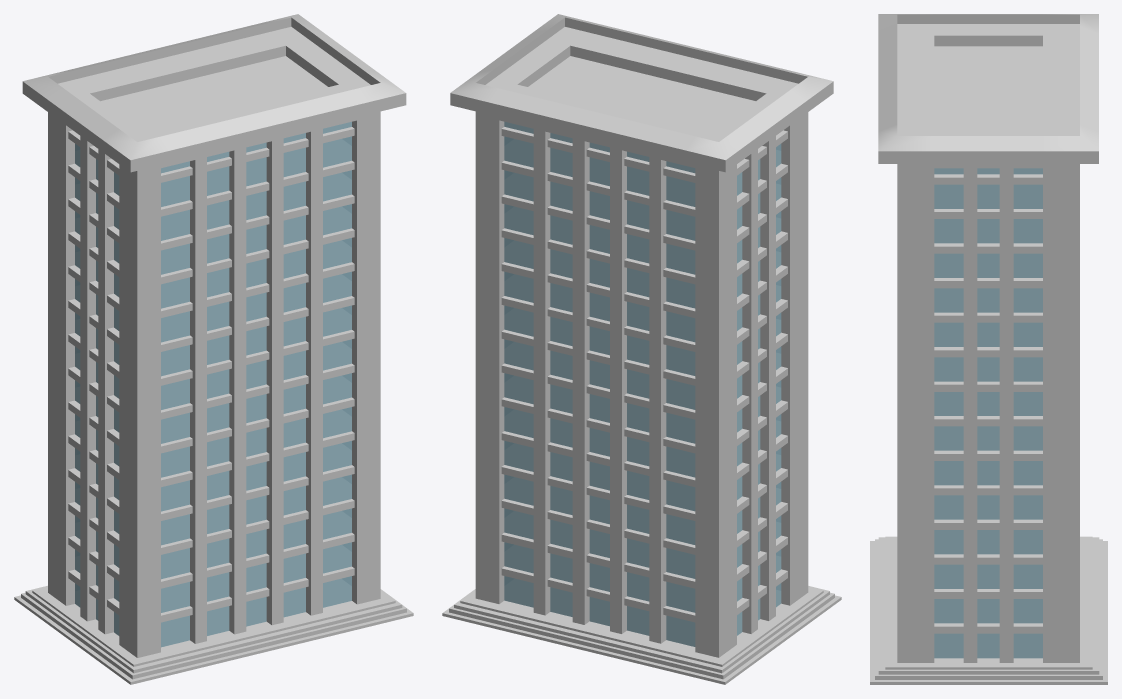
Rendered from city -glass build2.fbx.
3 renders of one model, left to right at view 1: azimuth 30°, elevation 25°; view 2: azimuth 150°, elevation 25°; view 3: azimuth 270°, elevation 25°, orthographic. The views are drawn at different scales.
Visible parts, largest first — view 1: polySurface37, polySurface38, pCube450, pCube456, pCube461, pCube462, pCube463, pCube451, pCube454, pCube457, pCube453, pCube460 (+5 smaller); view 2: polySurface37, polySurface38, pCube450, pCube454, pCube463, pCube458, pCube455, pCube459, pCube462, pCube451, pCube453, pCube452 (+5 smaller); view 3: polySurface37, polySurface38, pCube450, pCube451, pCube453, pCube462, pCube464, pCube454, pCube455, pCube456, pCube457, pCube458 (+5 smaller).
Boxes of the visible parts, <box> form: polySurface37: <box>22,14,406,657</box>; polySurface38: <box>75,121,351,647</box>; pCube450: <box>14,585,413,684</box>; pCube456: <box>68,397,354,453</box>; pCube461: <box>68,228,354,284</box>; pCube462: <box>68,194,354,250</box>; pCube463: <box>68,160,354,216</box>; pCube451: <box>68,566,354,622</box>; pCube454: <box>68,465,354,520</box>; pCube457: <box>68,363,354,419</box>; pCube453: <box>68,499,354,554</box>; pCube460: <box>68,262,354,317</box>; polySurface37: <box>450,14,833,657</box>; polySurface38: <box>504,121,781,646</box>; pCube450: <box>442,586,841,684</box>; pCube454: <box>501,465,787,520</box>; pCube463: <box>501,160,787,216</box>; pCube458: <box>501,329,787,385</box>; pCube455: <box>501,431,787,486</box>; pCube459: <box>501,296,787,351</box>; pCube462: <box>501,194,787,250</box>; pCube451: <box>501,566,787,622</box>; pCube453: <box>501,498,787,554</box>; pCube452: <box>501,532,787,588</box>; polySurface37: <box>878,14,1098,662</box>; polySurface38: <box>934,168,1042,658</box>; pCube450: <box>870,536,1107,684</box>; pCube451: <box>934,623,1042,633</box>; pCube453: <box>934,554,1042,564</box>; pCube462: <box>934,243,1042,253</box>; pCube464: <box>934,174,1042,184</box>; pCube454: <box>934,519,1042,529</box>; pCube455: <box>934,485,1042,495</box>; pCube456: <box>934,450,1042,460</box>; pCube457: <box>934,416,1042,426</box>; pCube458: <box>934,381,1042,391</box>.
Bounding box in the file's own units: 19.22 × 34.27 × 13.7.
